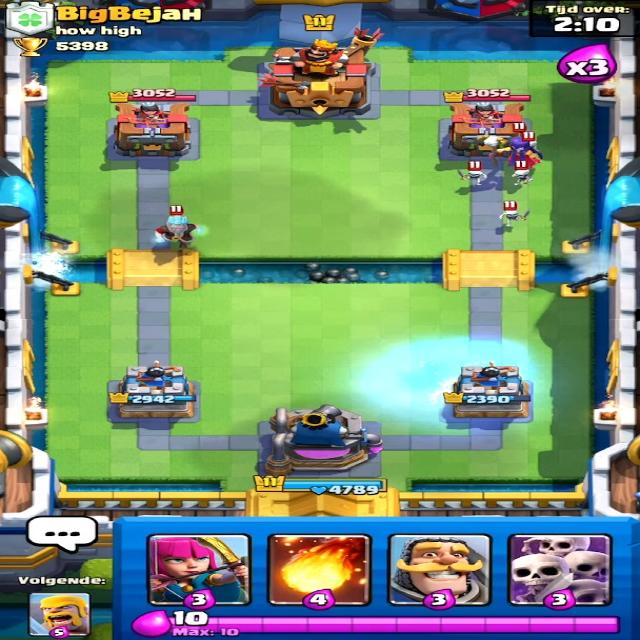Enemy_Ice_Wizard_Troop: (154, 210, 217, 250)
Enemy_Skeleton_Troop: (457, 168, 488, 188), (498, 209, 530, 226), (509, 170, 533, 186)
Enemy_Witch_Troop: (495, 134, 549, 174)
Fireball_Card: (265, 534, 361, 604)
